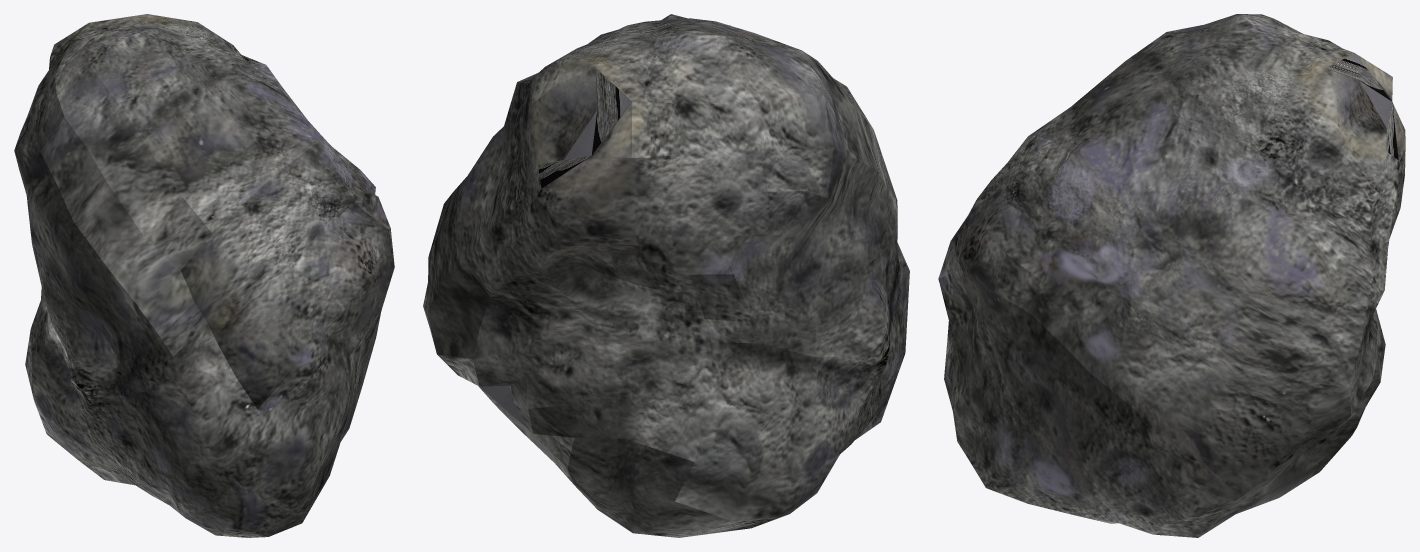
The model's file is asteroid-B-broken.fbx.
The picture shows the model from 3 angles, left to right: view 1: azimuth 30°, elevation 25°; view 2: azimuth 150°, elevation 25°; view 3: azimuth 270°, elevation 25°; orthographic projection. The views are drawn at different scales.
Parts seen in each view (by area): view 1: 06-asteroid-B-broken, 06-asteroid-B-broken.005, 06-asteroid-B-broken.008, 06-asteroid-B-broken.003, 06-asteroid-B-broken.004, 06-asteroid-B-broken.006, 06-asteroid-B-broken.007; view 2: 06-asteroid-B-broken.007, 06-asteroid-B-broken.003, 06-asteroid-B-broken.008, 06-asteroid-B-broken.006, 06-asteroid-B-broken, 06-asteroid-B-broken.002; view 3: 06-asteroid-B-broken.006, 06-asteroid-B-broken.004, 06-asteroid-B-broken, 06-asteroid-B-broken.002, 06-asteroid-B-broken.005, 06-asteroid-B-broken.007.
Part boxes in pixels (x1,y1,x2,y2): 06-asteroid-B-broken: (55, 14, 318, 270); 06-asteroid-B-broken.005: (181, 141, 394, 409); 06-asteroid-B-broken.008: (25, 287, 278, 517); 06-asteroid-B-broken.003: (14, 77, 207, 390); 06-asteroid-B-broken.004: (186, 267, 394, 537); 06-asteroid-B-broken.006: (148, 14, 394, 265); 06-asteroid-B-broken.007: (21, 23, 88, 130); 06-asteroid-B-broken.007: (473, 101, 767, 461); 06-asteroid-B-broken.003: (688, 94, 897, 358); 06-asteroid-B-broken.008: (675, 242, 909, 537); 06-asteroid-B-broken.006: (423, 14, 670, 433); 06-asteroid-B-broken: (595, 14, 872, 127); 06-asteroid-B-broken.002: (494, 402, 730, 537); 06-asteroid-B-broken.006: (994, 53, 1398, 500); 06-asteroid-B-broken.004: (938, 257, 1164, 514); 06-asteroid-B-broken: (1028, 14, 1354, 154); 06-asteroid-B-broken.002: (1071, 409, 1364, 537); 06-asteroid-B-broken.005: (938, 135, 1072, 291); 06-asteroid-B-broken.007: (1350, 53, 1405, 419).
Size of the model in its own units: 32228 by 41328 by 36874.
